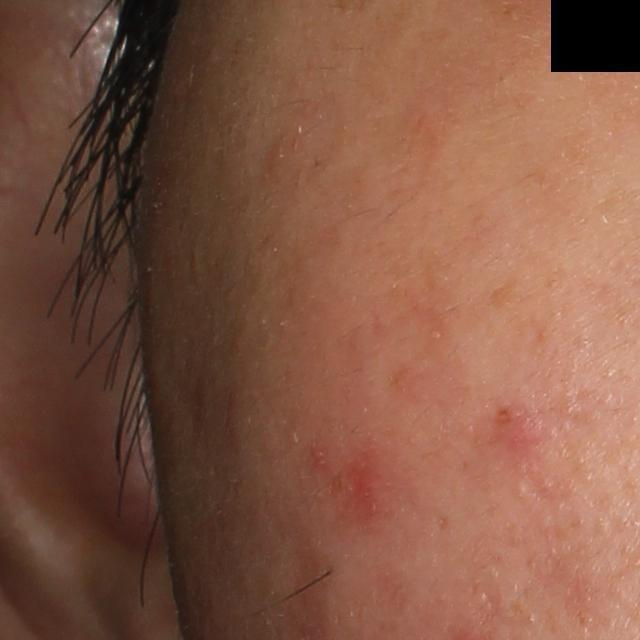papule: (348, 455, 387, 523), (488, 401, 545, 444)
